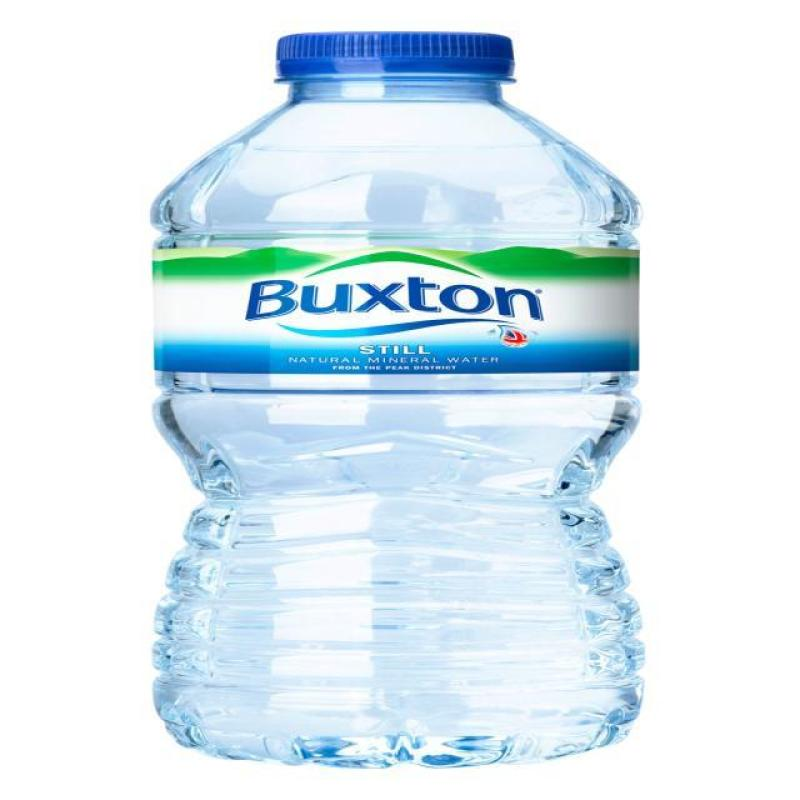botella: (134, 25, 646, 770)
